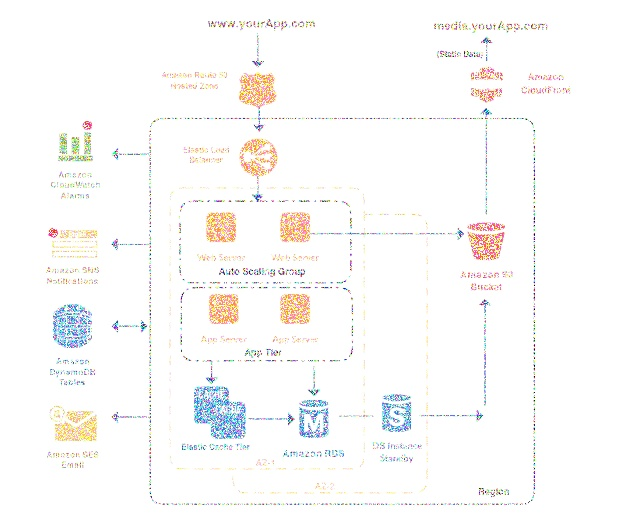CloudWatch Alarm: (49, 116, 101, 167)
Cloudfront: (463, 63, 510, 105)
Dynamo DB: (47, 300, 98, 351)
EC2: (187, 381, 248, 441)
ELB: (231, 131, 287, 183), (237, 136, 279, 178)
RDS: (377, 387, 416, 436), (295, 396, 333, 441)
Route53: (234, 69, 286, 111)
S3: (467, 217, 509, 263)
SES: (46, 398, 105, 447)
SNS: (45, 219, 101, 263)
